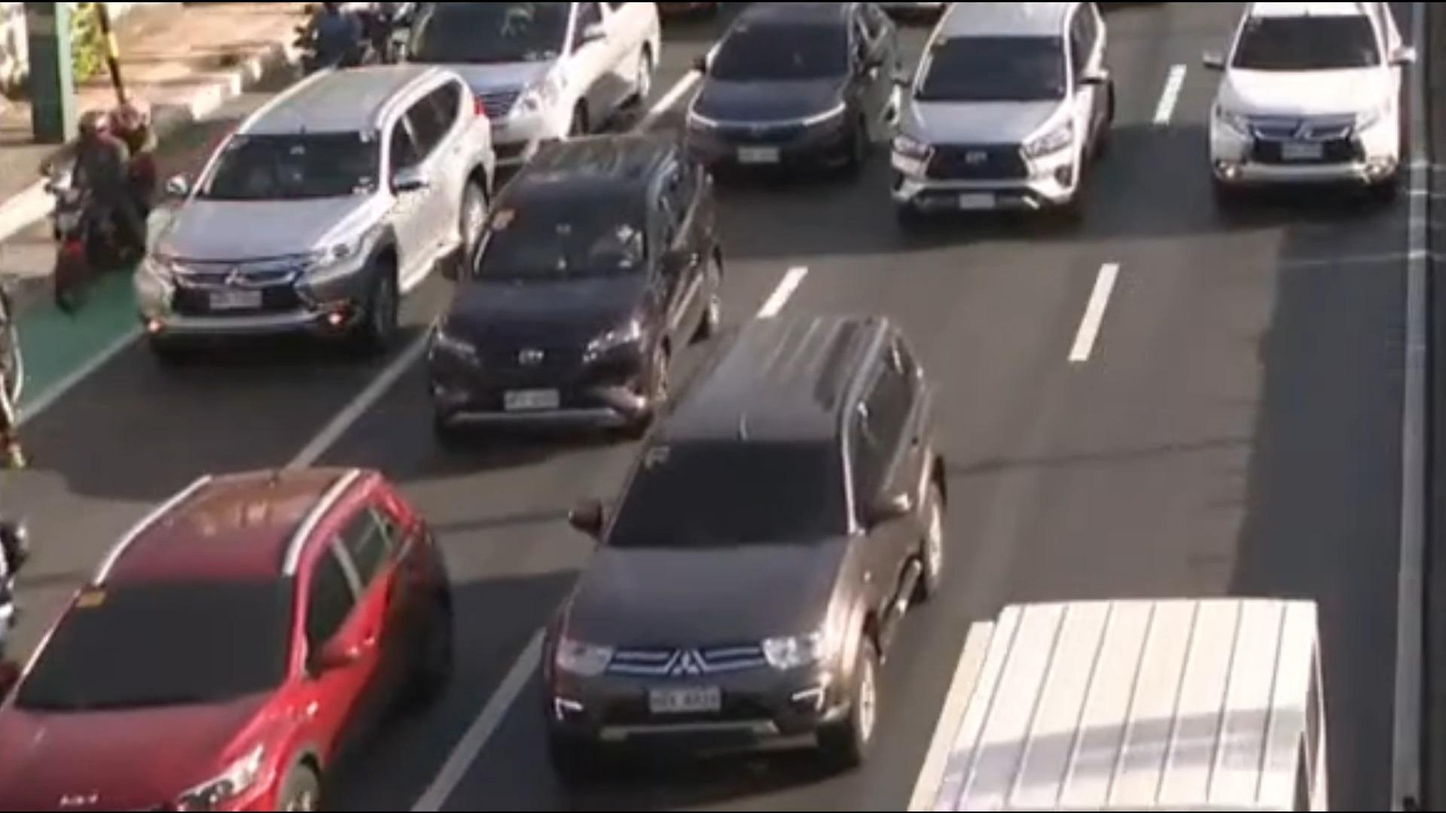Motorcycle: (37, 83, 170, 340), (277, 2, 370, 72)
SUV: (501, 307, 983, 807), (0, 455, 476, 813), (90, 36, 516, 372), (424, 123, 735, 474), (873, 0, 1151, 236), (1194, 0, 1423, 213)
Sedan: (685, 0, 900, 207)
Van: (402, 0, 667, 160)
